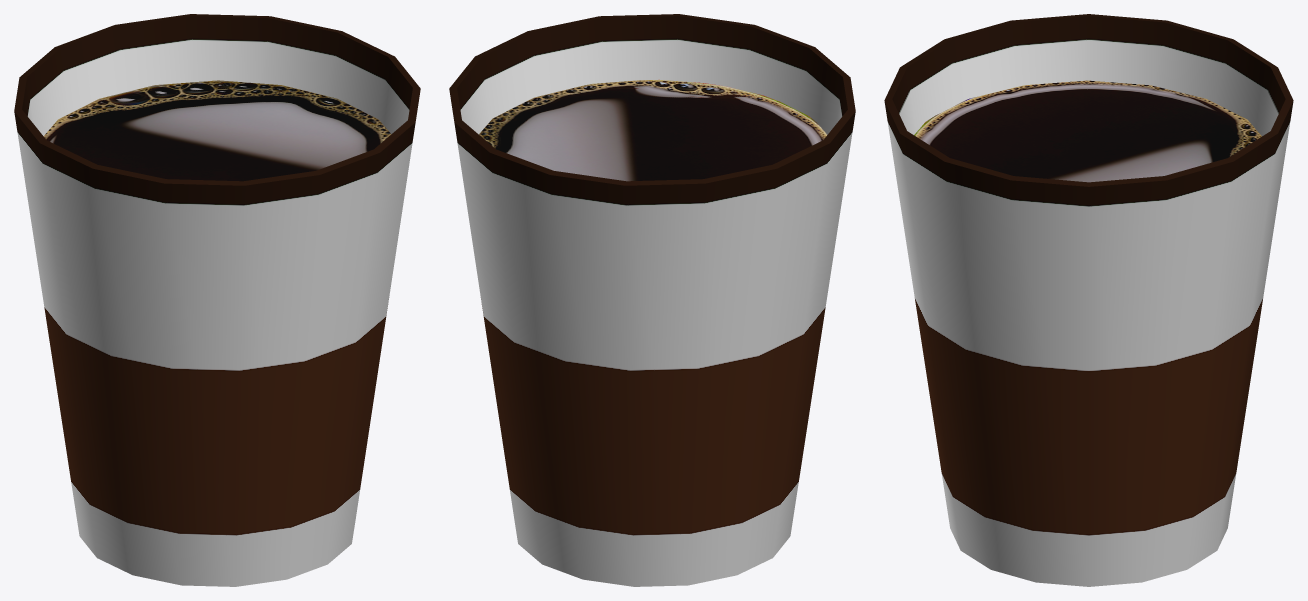
File: Coffee.FBX
3 views of the same model, side by side, from view 1: azimuth 30°, elevation 25°; view 2: azimuth 150°, elevation 25°; view 3: azimuth 270°, elevation 25° (orthographic).
Parts seen in each view (by area): view 1: Coffee; view 2: Coffee; view 3: Coffee.
Boxes of the visible parts, x1,y1,x2,y2 form: Coffee: [14, 14, 420, 586]; Coffee: [449, 14, 855, 586]; Coffee: [884, 14, 1293, 586].
Bounding box in the file's own units: 9.8 × 11.39 × 9.8.
1 material, 1 textured.
